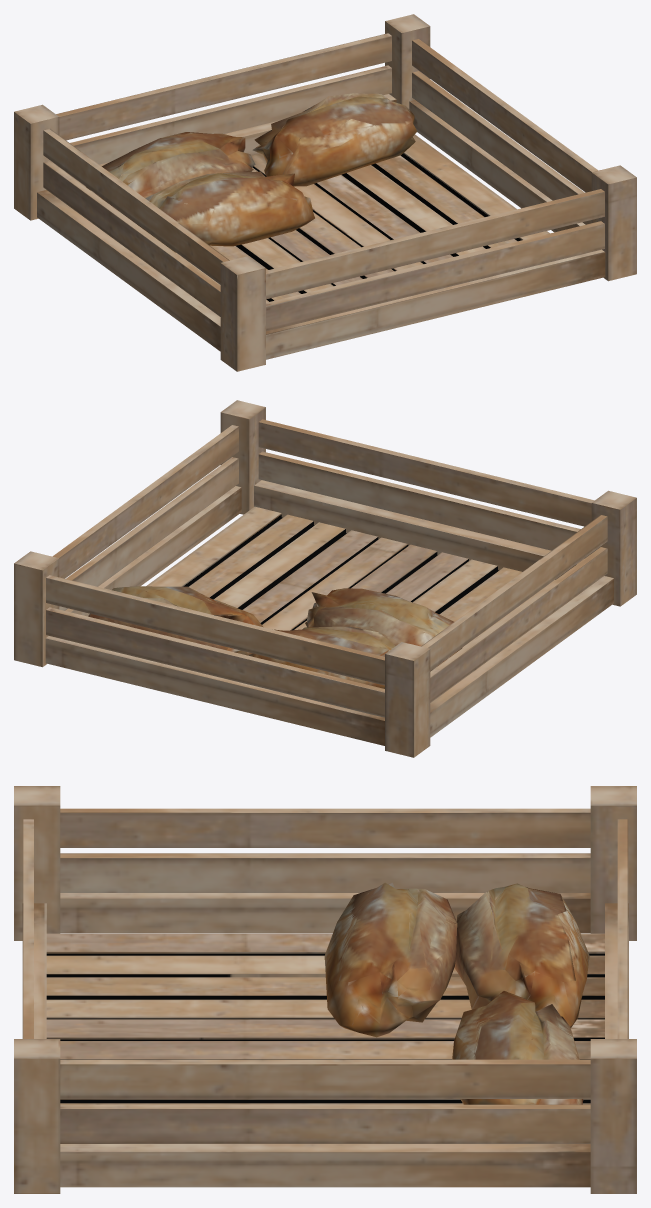
File: MS_BreadStack3.fbx
3 renders of one model, top to bottom at view 1: azimuth 30°, elevation 25°; view 2: azimuth 150°, elevation 25°; view 3: azimuth 270°, elevation 25°, orthographic. The views are drawn at different scales.
Visible parts, largest first — view 1: Cube.006; view 2: Cube.006; view 3: Cube.006.
Part boxes in pixels (x1,y1,x2,y2): Cube.006: (14, 14, 636, 371); Cube.006: (14, 400, 636, 757); Cube.006: (14, 786, 636, 1193).
Size of the model in its own units: 903 by 209 by 872.
1 material, 1 textured.
